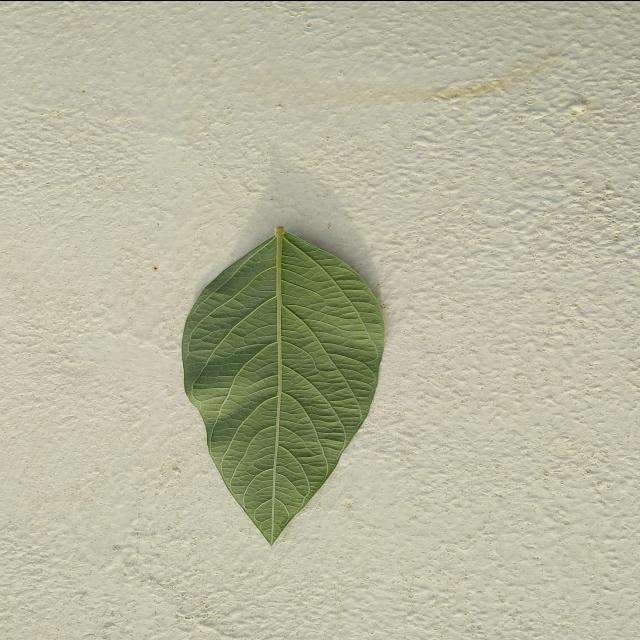leaf: (180, 225, 385, 545)
